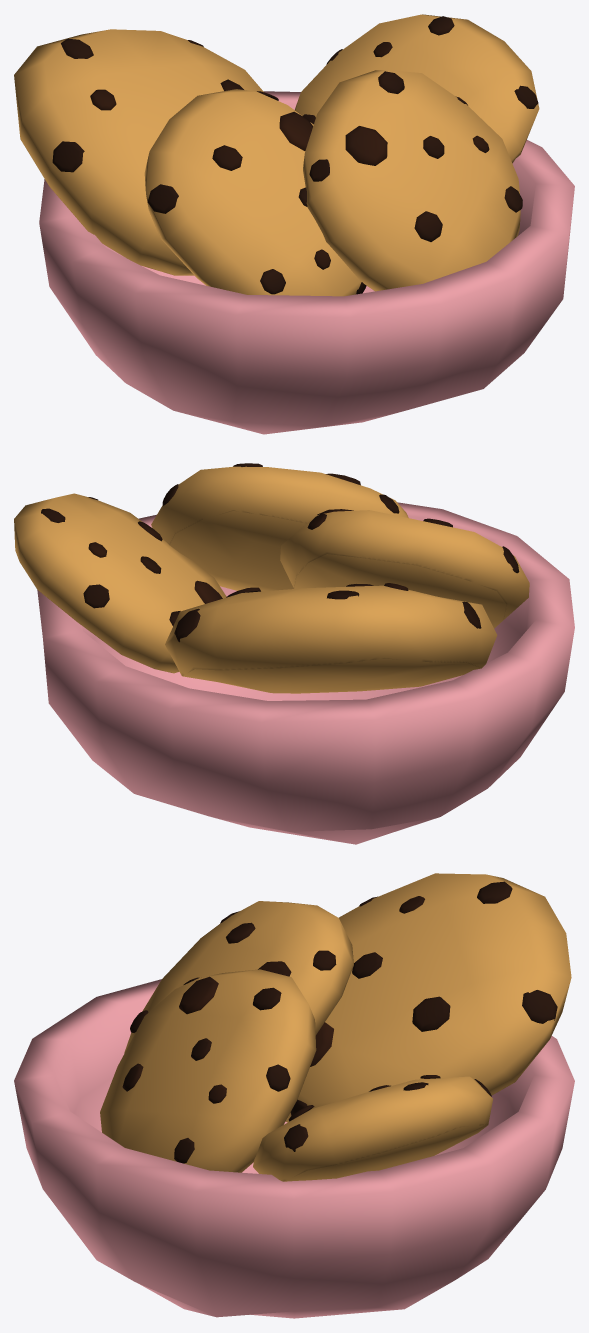
File: Bakery_Cookies_01.fbx
3 renders of one model, top to bottom at view 1: azimuth 30°, elevation 25°; view 2: azimuth 150°, elevation 25°; view 3: azimuth 270°, elevation 25°, orthographic. The views are drawn at different scales.
Parts seen in each view (by area): view 1: Bakery_Cookies_01; view 2: Bakery_Cookies_01; view 3: Bakery_Cookies_01.
Boxes of the visible parts, bbox=[...] form: Bakery_Cookies_01: bbox=[14, 14, 574, 434]; Bakery_Cookies_01: bbox=[14, 463, 574, 844]; Bakery_Cookies_01: bbox=[14, 873, 574, 1318].
Size of the model in its own units: 79.71 by 49.23 by 78.67.
